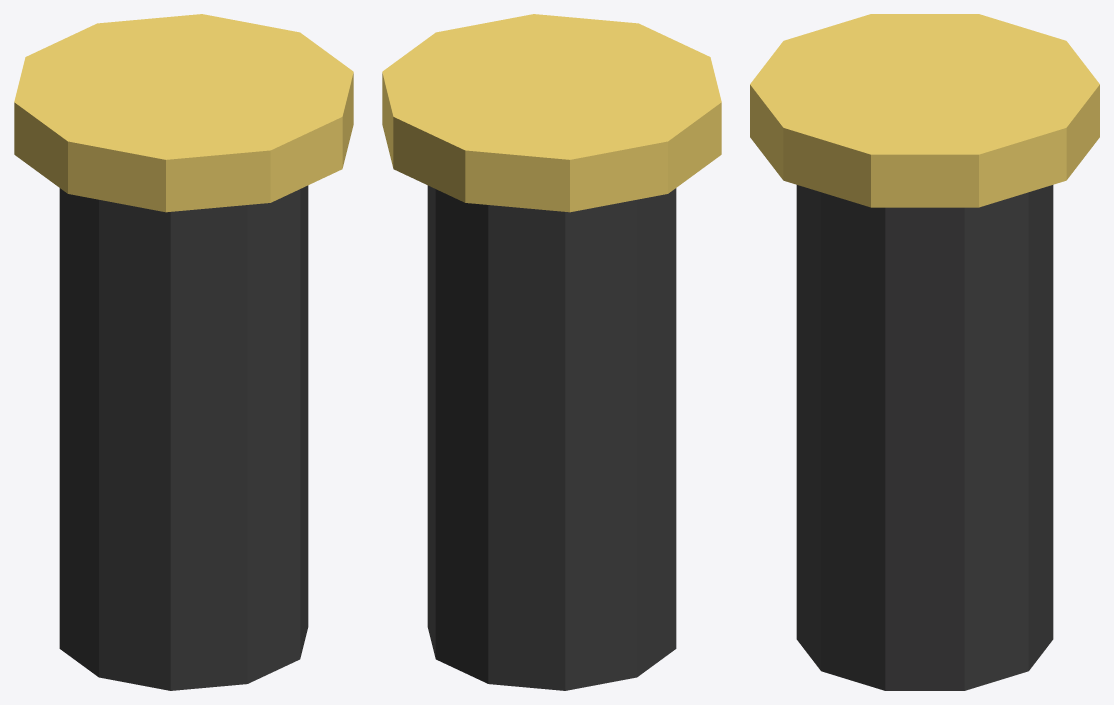
3 views of the same model, side by side, from view 1: azimuth 30°, elevation 25°; view 2: azimuth 150°, elevation 25°; view 3: azimuth 270°, elevation 25° (orthographic).
Visible parts, largest first — view 1: Mooring post, Cap; view 2: Mooring post, Cap; view 3: Mooring post, Cap.
Part boxes in pixels (<box>): Mooring post: <box>59,185,308,690</box>; Cap: <box>14,14,353,212</box>; Mooring post: <box>427,185,676,690</box>; Cap: <box>382,14,721,212</box>; Mooring post: <box>796,185,1053,690</box>; Cap: <box>750,14,1099,207</box>.
Bounding box in the file's own units: 28.53 × 52.5 × 30.
